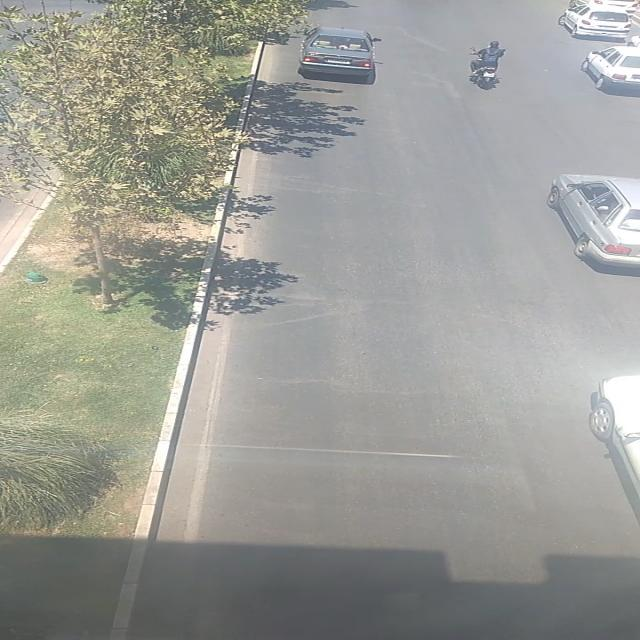car: (546, 170, 640, 270), (584, 374, 640, 514), (299, 28, 383, 76), (575, 45, 640, 95), (556, 5, 630, 40)
motorbike: (468, 37, 506, 89)
